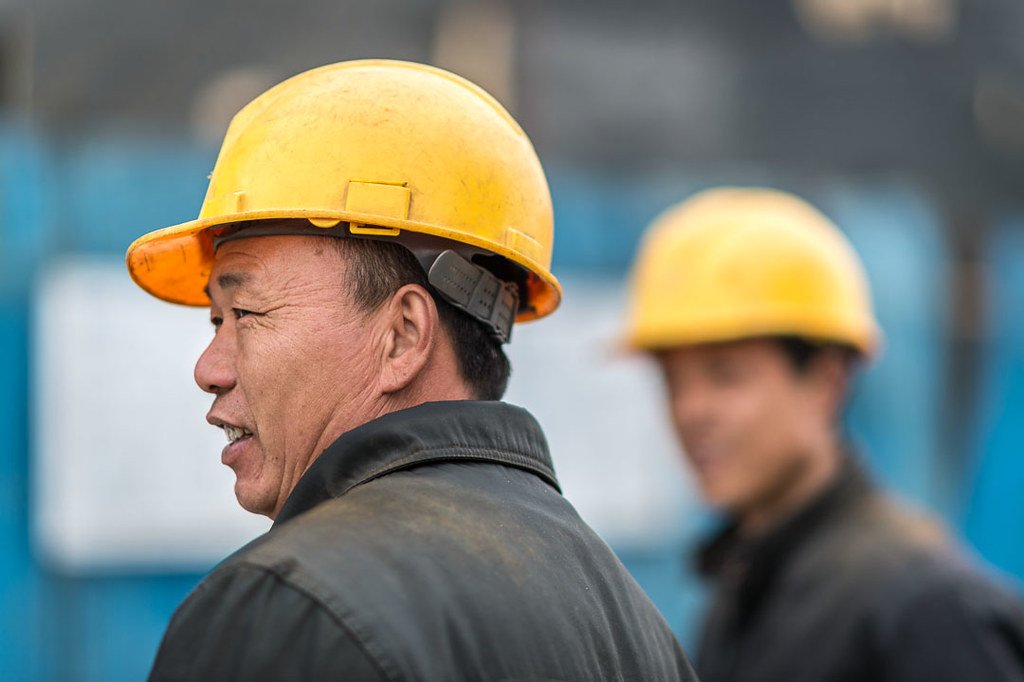Hard Hat: (116, 62, 563, 513), (593, 186, 890, 503)
Person: (118, 63, 694, 681), (595, 186, 1023, 672)
